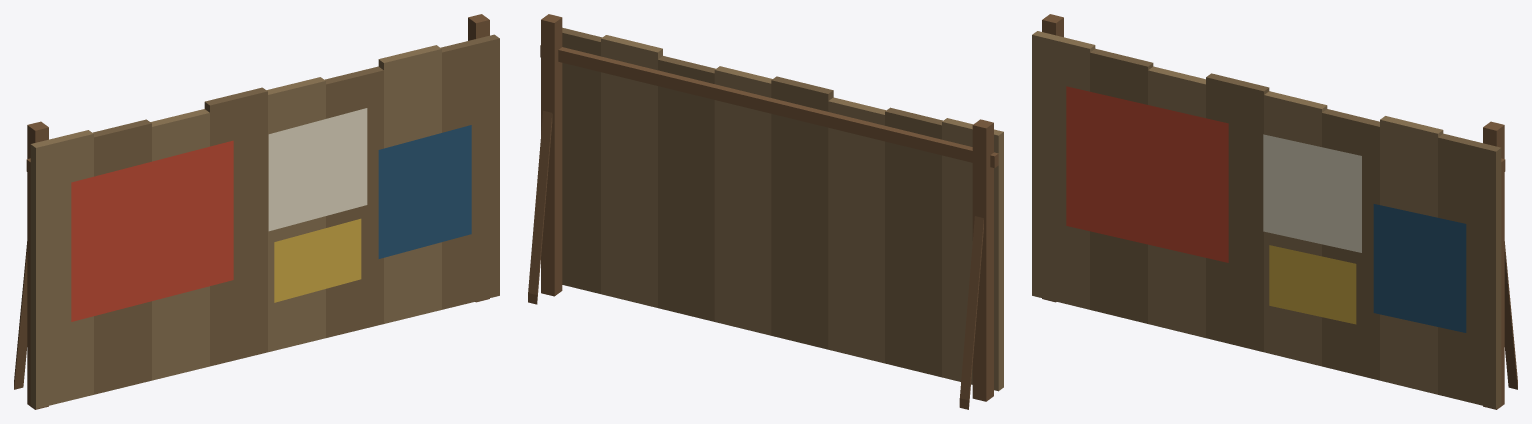
The model's file is con_hoarding.glb.
3 views of the same model, side by side, from view 1: azimuth 30°, elevation 25°; view 2: azimuth 150°, elevation 25°; view 3: azimuth 330°, elevation 25° (orthographic). The views are drawn at different scales.
Parts seen in each view (by area): view 1: con_hoarding; view 2: con_hoarding; view 3: con_hoarding.
Part boxes in pixels (x1,y1,x2,y2): con_hoarding: (14,14,499,409); con_hoarding: (528,14,1003,409); con_hoarding: (1032,14,1517,409).
Bounding box in the file's own units: 4 × 2.3 × 0.44.
